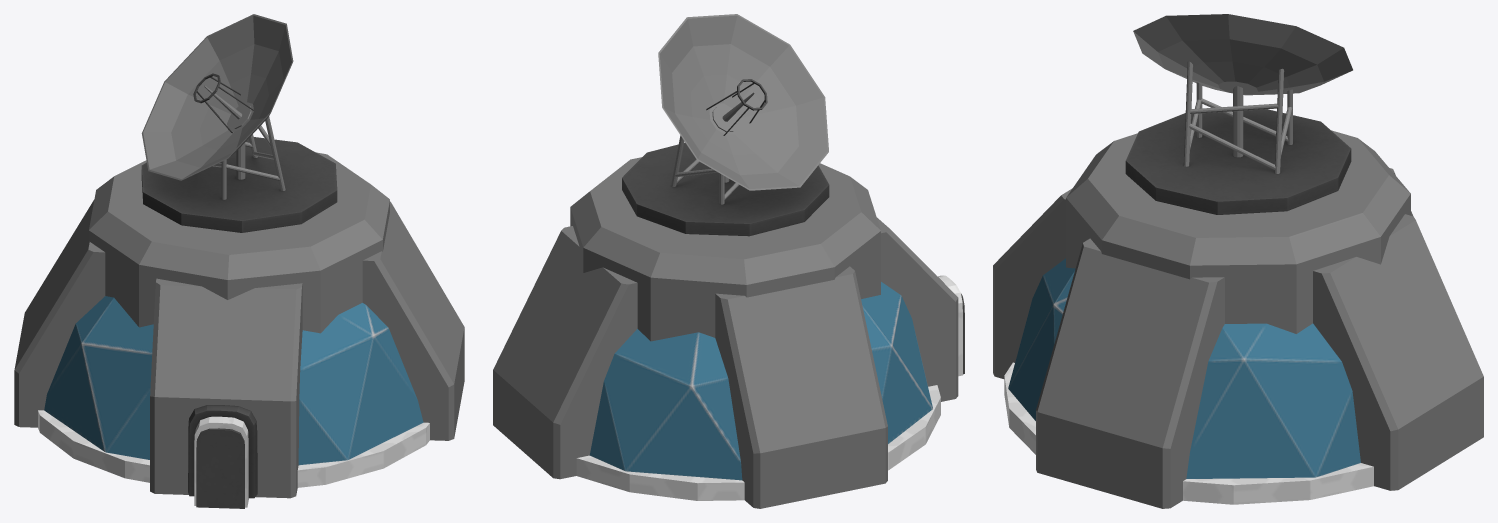
Rendered from antenna.glb.
3 views of the same model, side by side, from view 1: azimuth 30°, elevation 25°; view 2: azimuth 150°, elevation 25°; view 3: azimuth 270°, elevation 25° (orthographic). The views are drawn at different scales.
Parts seen in each view (by area): view 1: Animated-part, Icosphere, Cylinder, Cube.004, Cube.001, Cube.003, Circle, Cube.012, Cube.037, Cube; view 2: Animated-part, Cube.003, Cylinder, Icosphere, Cube.002, Cube.004, Circle, Cube; view 3: Cube.001, Animated-part, Cylinder, Cube.002, Icosphere, Cube.004, Circle.
Part boxes in pixels (bbox=[...]): Animated-part: bbox=[141, 14, 337, 232]; Icosphere: bbox=[44, 296, 423, 465]; Cylinder: bbox=[89, 152, 389, 333]; Cube.004: bbox=[150, 278, 302, 498]; Cube.001: bbox=[362, 201, 464, 440]; Cube.003: bbox=[14, 200, 105, 427]; Circle: bbox=[38, 410, 429, 487]; Cube.012: bbox=[196, 428, 244, 508]; Cube.037: bbox=[188, 405, 257, 498]; Cube: bbox=[194, 416, 248, 507]; Animated-part: bbox=[622, 14, 829, 236]; Cube.003: bbox=[715, 266, 887, 508]; Cylinder: bbox=[570, 157, 880, 341]; Icosphere: bbox=[589, 282, 932, 480]; Cube.002: bbox=[493, 226, 637, 479]; Cube.004: bbox=[877, 217, 958, 401]; Circle: bbox=[576, 385, 940, 500]; Cube: bbox=[937, 275, 962, 376]; Cube.001: bbox=[1036, 238, 1224, 508]; Animated-part: bbox=[1125, 14, 1352, 214]; Cylinder: bbox=[1066, 130, 1410, 333]; Cube.002: bbox=[1313, 214, 1483, 490]; Icosphere: bbox=[1008, 258, 1360, 478]; Cube.004: bbox=[993, 188, 1072, 378]; Circle: bbox=[1004, 362, 1373, 504].
Size of the model in its own units: 4.16 by 3.88 by 4.16.
Materials: 1 (1 with a texture image).
